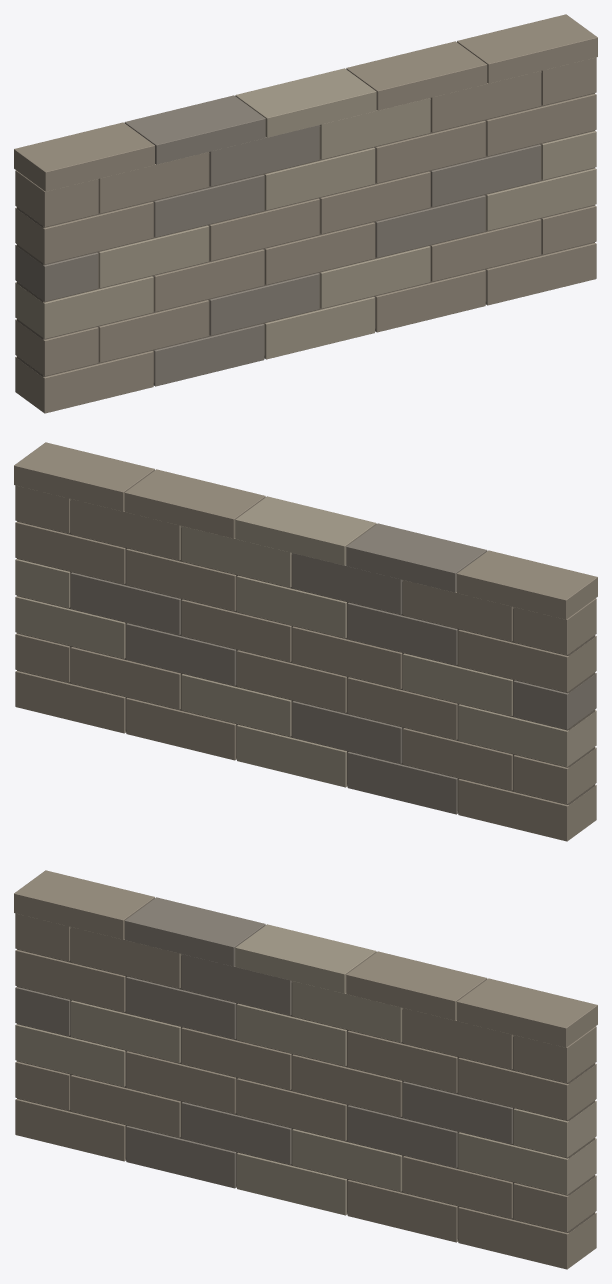
The model's file is ShortWall.glb.
The picture shows the model from 3 angles, top to bottom: view 1: azimuth 30°, elevation 25°; view 2: azimuth 150°, elevation 25°; view 3: azimuth 330°, elevation 25°; orthographic projection.
Visible parts, largest first — view 1: WallFacing, WallCap; view 2: WallFacing, WallCap; view 3: WallFacing, WallCap.
Boxes of the visible parts, box(x1,y1,x2,y2) form: WallFacing: box(15, 57, 596, 413); WallCap: box(14, 14, 597, 191); WallFacing: box(15, 485, 596, 841); WallCap: box(14, 442, 597, 619); WallFacing: box(15, 913, 596, 1269); WallCap: box(14, 870, 597, 1047).
Bounding box in the file's own units: 4.99 × 2.09 × 0.5.
